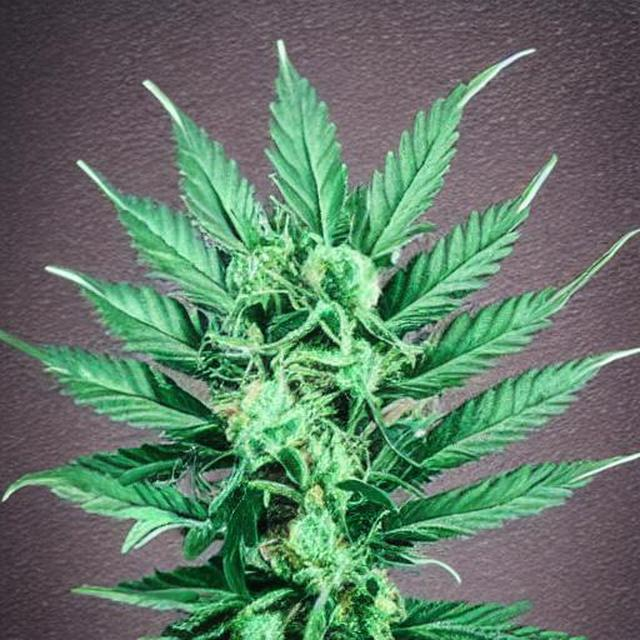Marijuana Plant: (0, 18, 640, 640)
